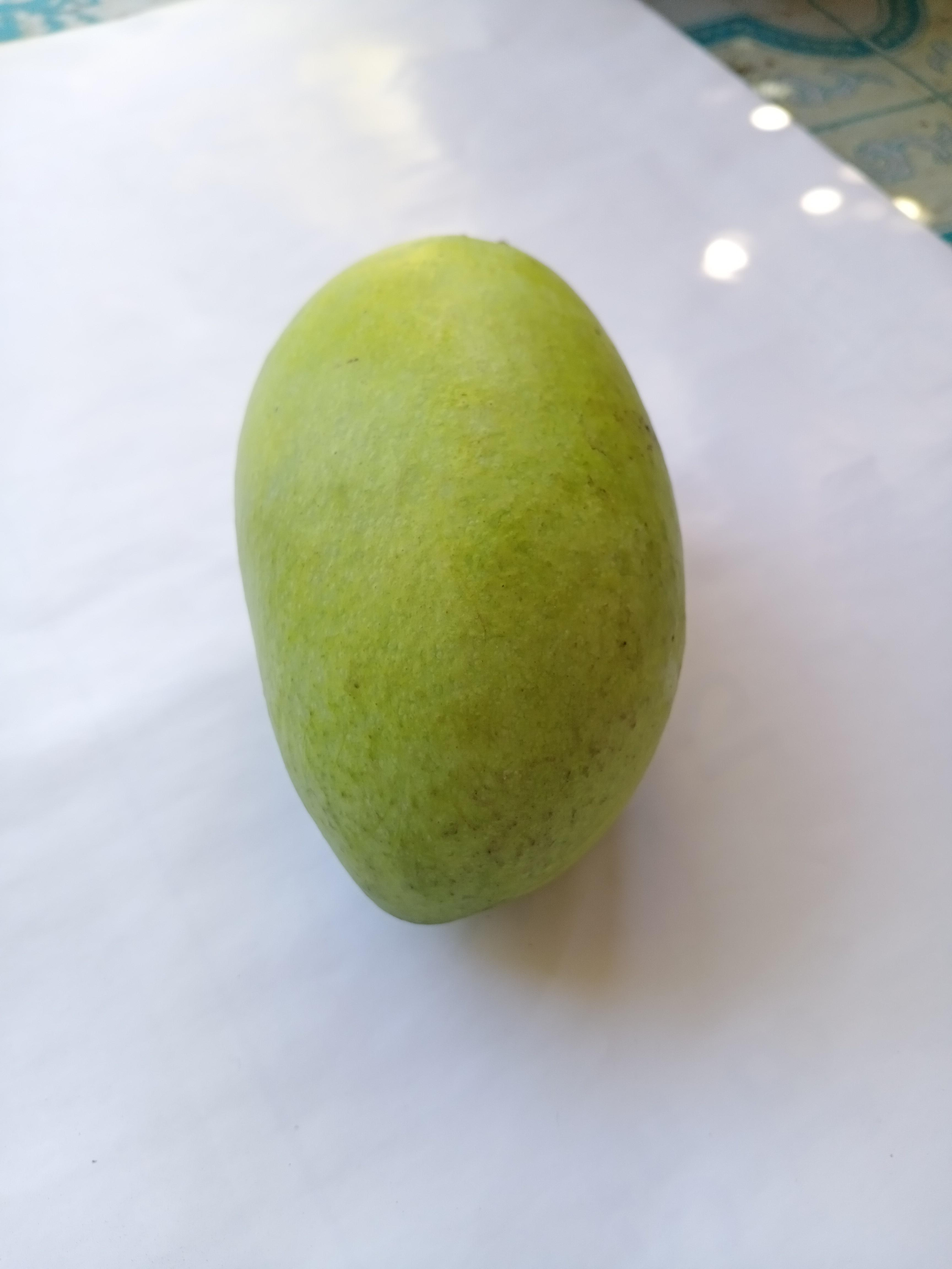Mango Unripe: (193, 204, 735, 981)
